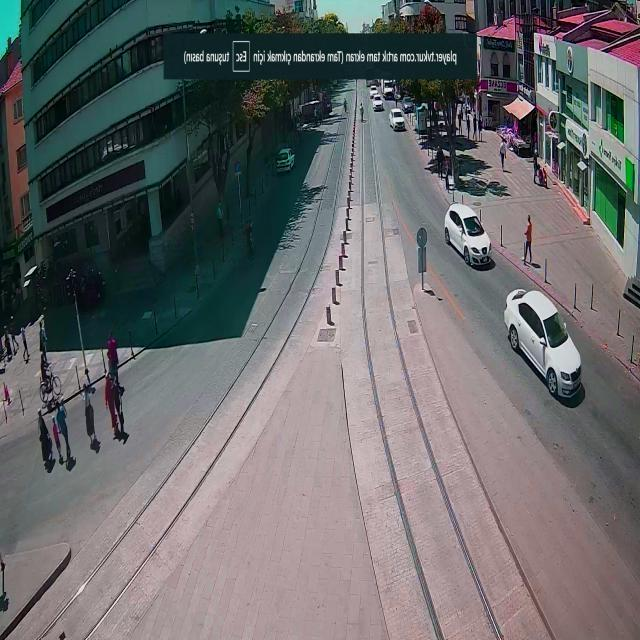Car: (514, 300, 586, 394), (441, 214, 495, 272), (268, 156, 303, 182), (388, 108, 410, 134), (404, 96, 412, 112), (374, 97, 382, 110), (371, 88, 377, 98)
Truck: (382, 81, 396, 101)
